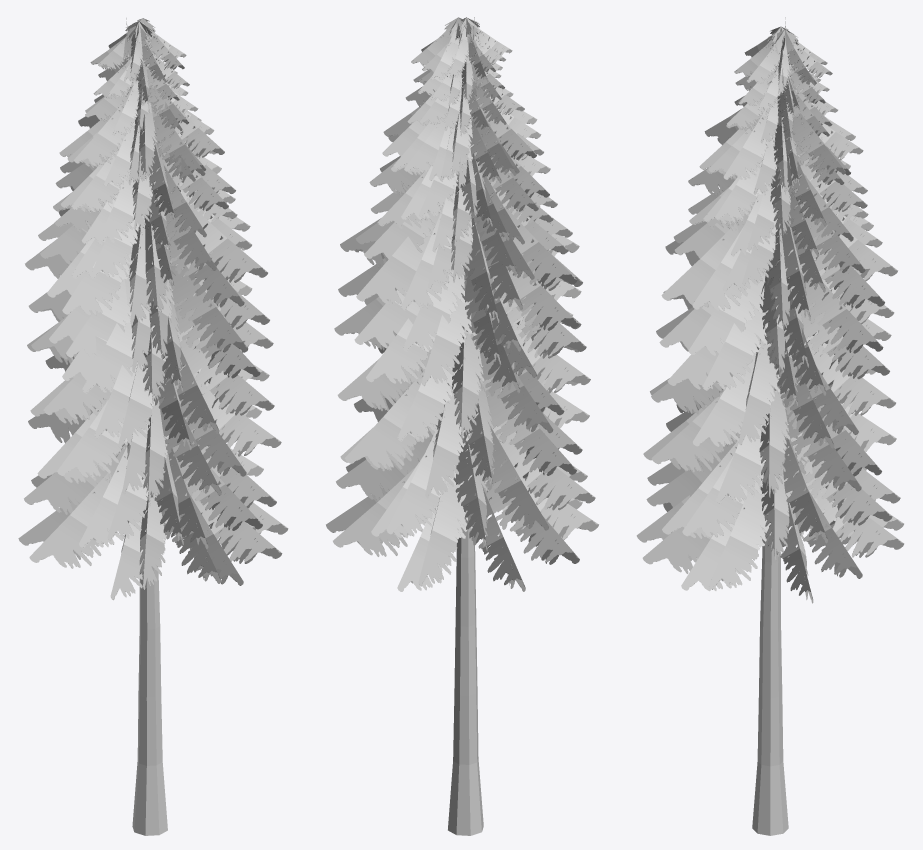
Rendered from PineTree2-LOD.fbx.
3 views of the same model, side by side, from view 1: azimuth 30°, elevation 25°; view 2: azimuth 150°, elevation 25°; view 3: azimuth 270°, elevation 25° (orthographic). The views are drawn at different scales.
Visible parts, largest first — view 1: branch_LOD0, tree_LOD0; view 2: branch_LOD0, tree_LOD0; view 3: branch_LOD0, tree_LOD0.
Boxes of the visible parts, left/top/right/bottom form: branch_LOD0: left=18, top=18, right=288, bottom=600; tree_LOD0: left=126, top=17, right=167, bottom=835; branch_LOD0: left=326, top=17, right=598, bottom=591; tree_LOD0: left=448, top=17, right=483, bottom=835; branch_LOD0: left=636, top=26, right=904, bottom=603; tree_LOD0: left=752, top=17, right=788, bottom=835.
Size of what is drawn, in the model's own units: 1405 by 4529 by 1409.
